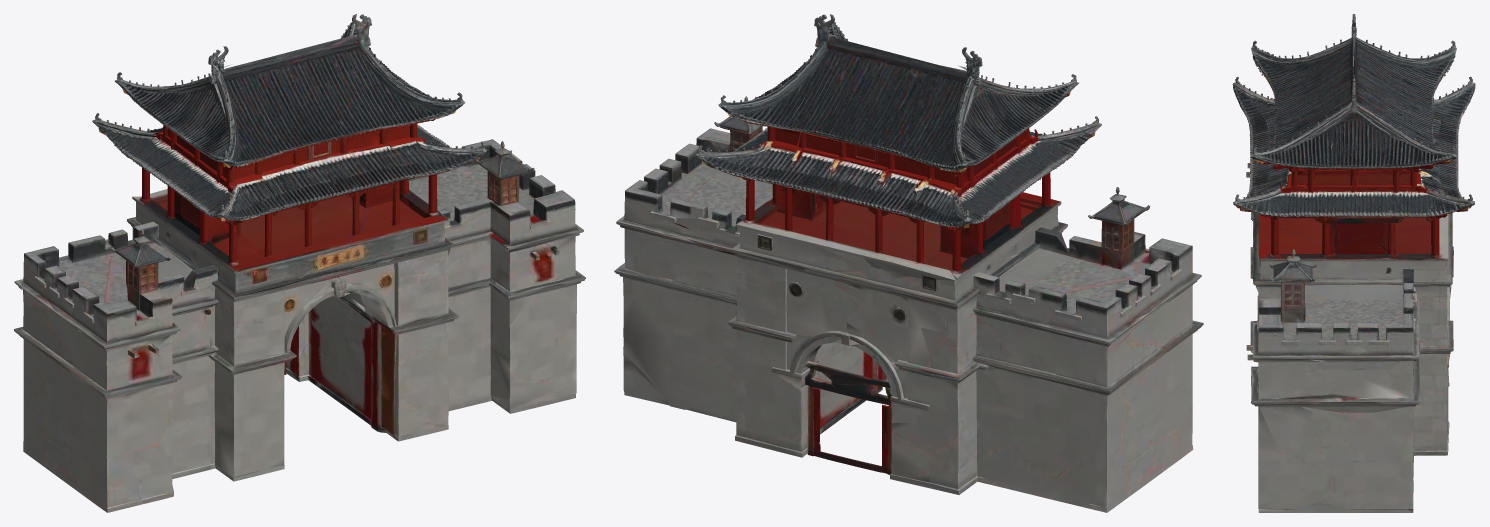
File: city_gate.glb
3 renders of one model, left to right at view 1: azimuth 30°, elevation 25°; view 2: azimuth 150°, elevation 25°; view 3: azimuth 270°, elevation 25°, orthographic. The views are drawn at different scales.
Bounding box in the file's own units: 1.89 × 1.46 × 0.8904.
1 material, 1 textured.
